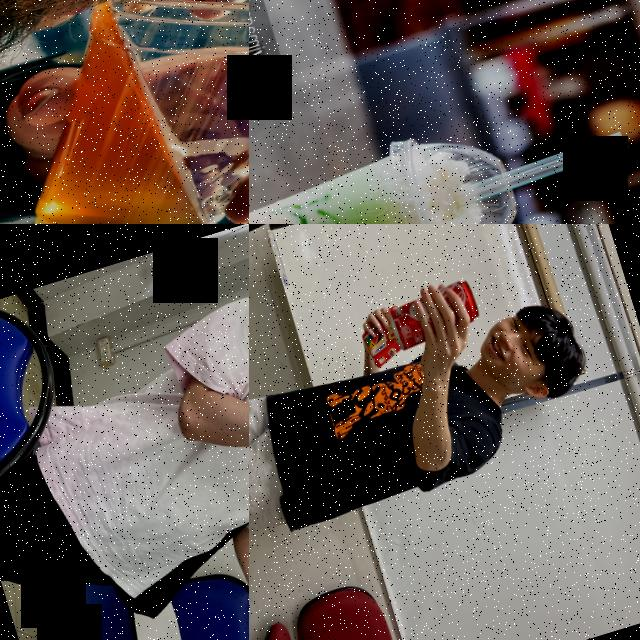can: (380, 276, 482, 354)
cup: (0, 0, 249, 224), (249, 112, 535, 224)
